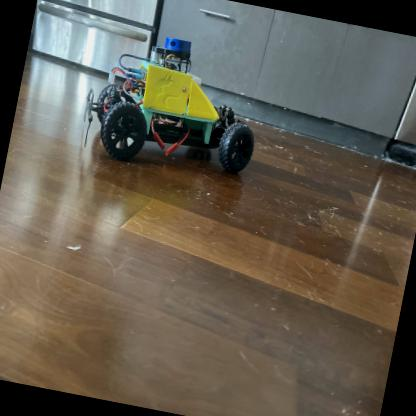mushr_car: (71, 20, 274, 188)
